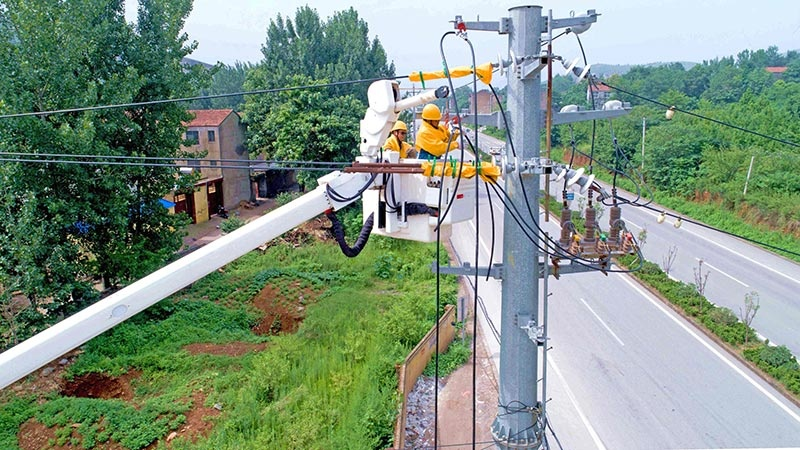yellow: (419, 100, 442, 129), (388, 118, 408, 143)
